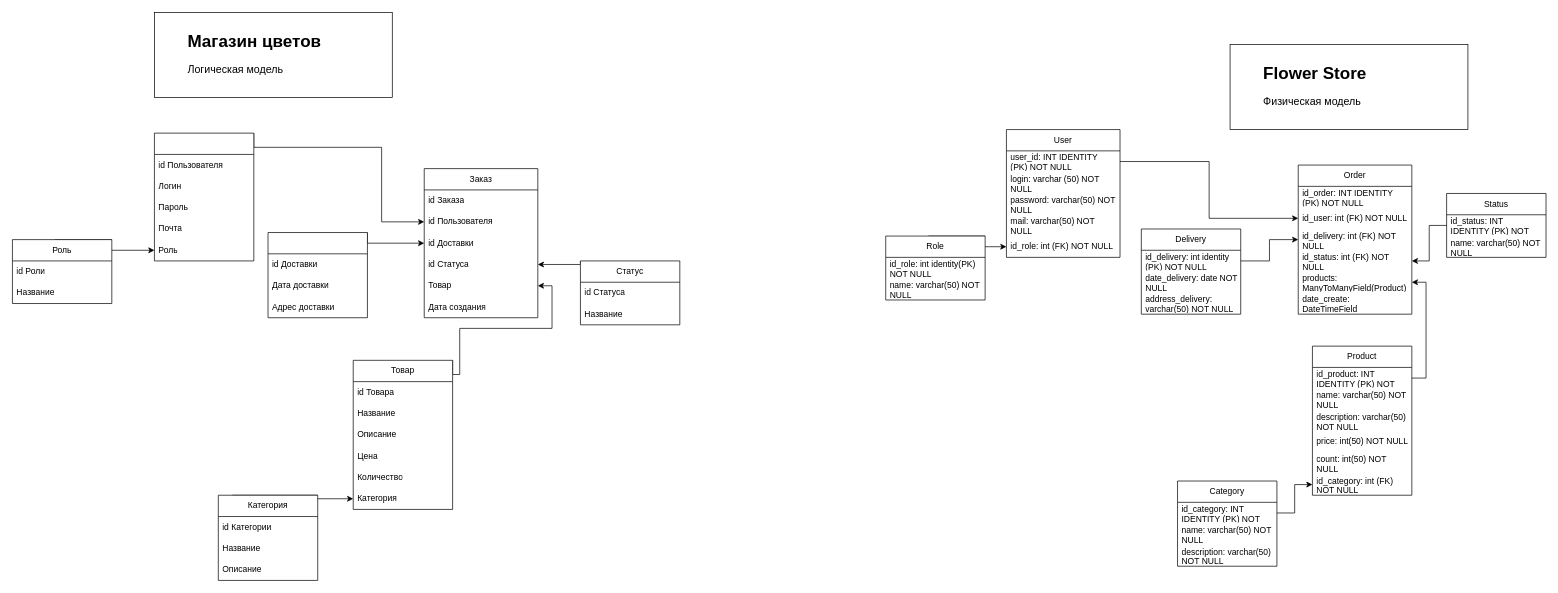
This 1558x593 diagram has some shape labels left out. Here are the shapes that lost their labels. From the top down, the box of each, then its label:
(154, 132, 254, 261): Пользователь
(267, 232, 367, 318): Доставка
